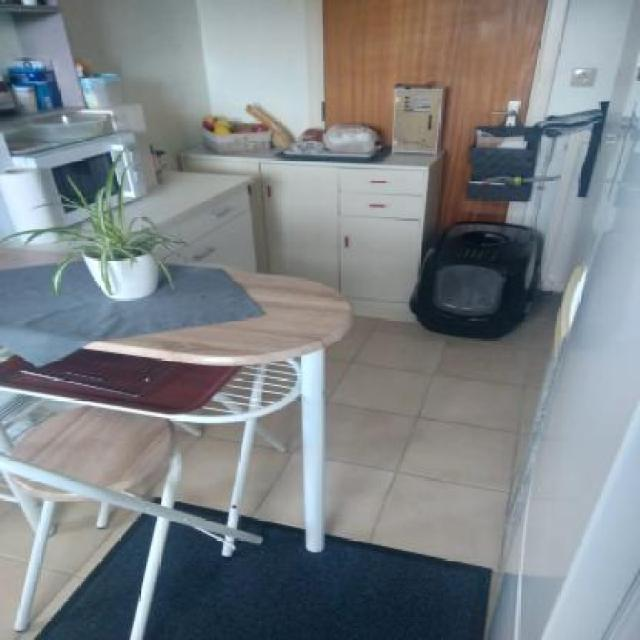floor: (148, 303, 551, 640), (174, 420, 244, 525), (1, 390, 76, 457)
